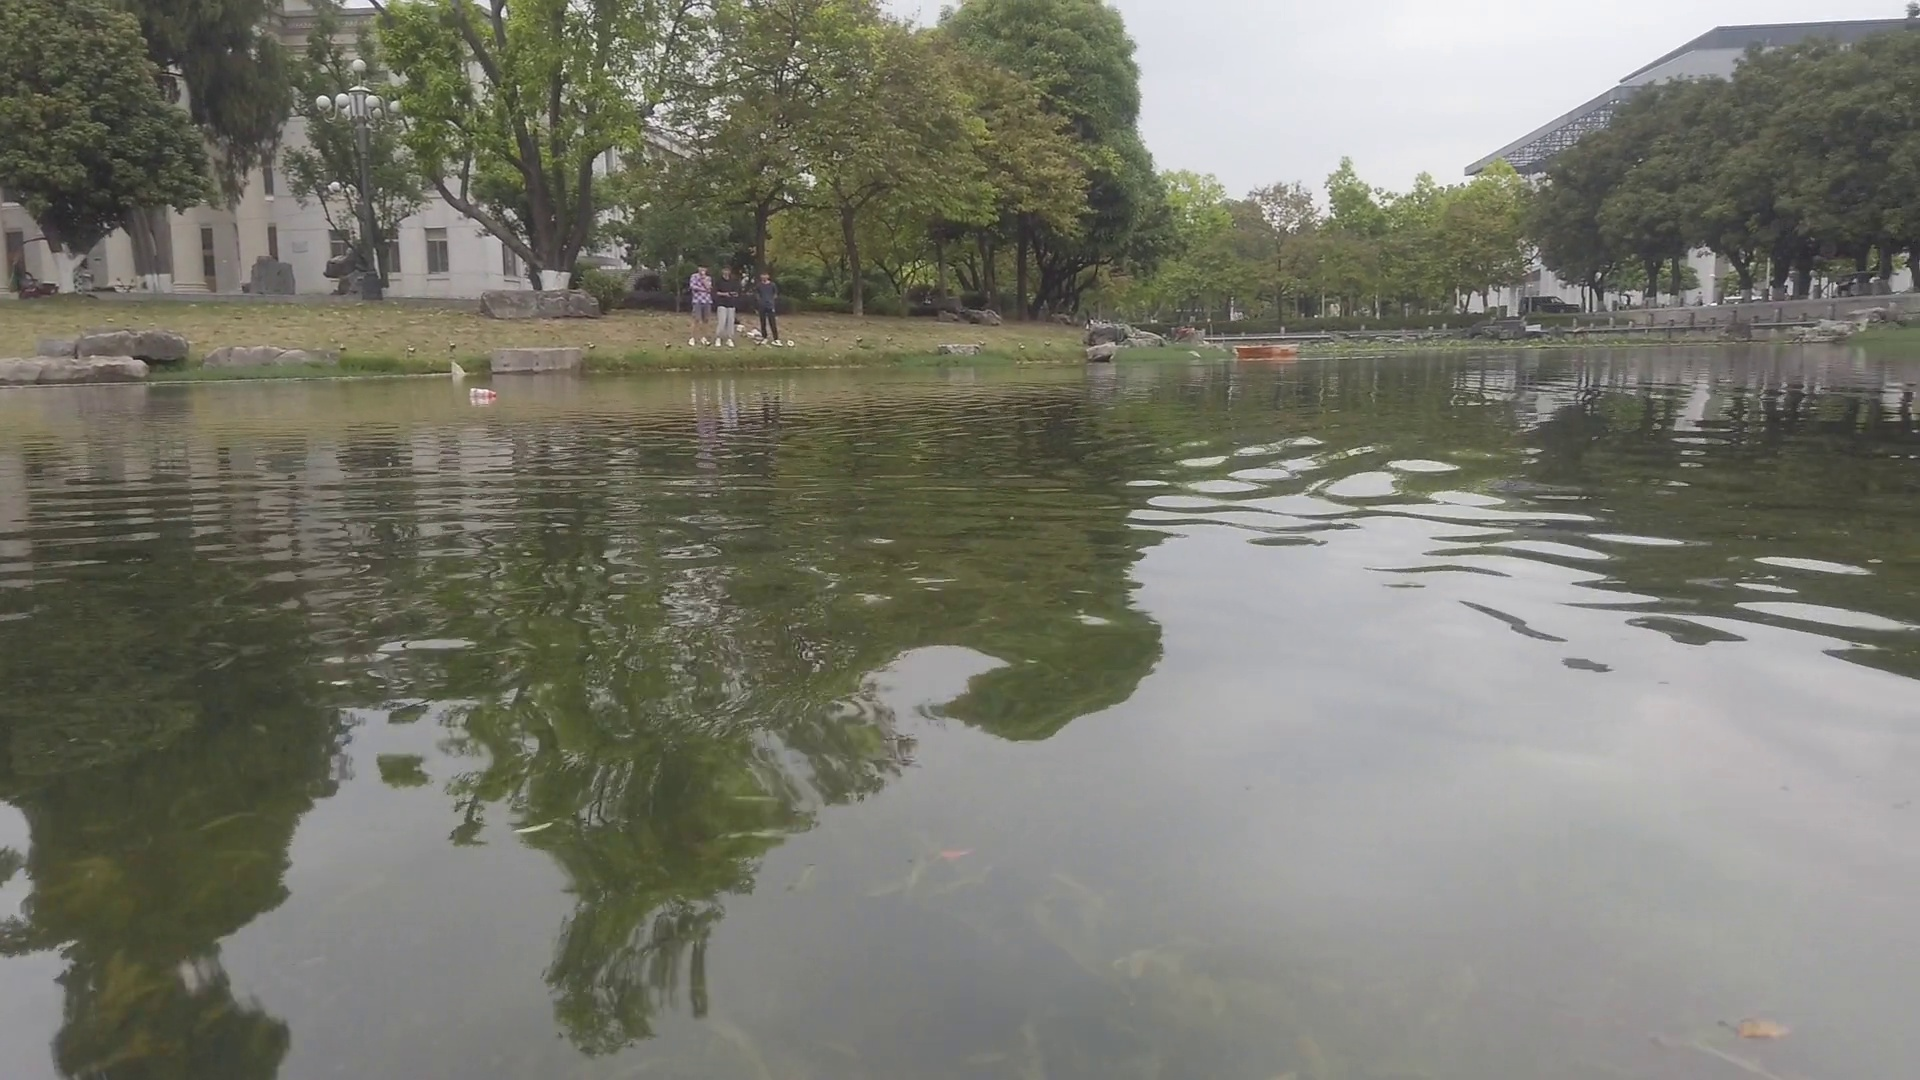bottle: (469, 386, 496, 401)
